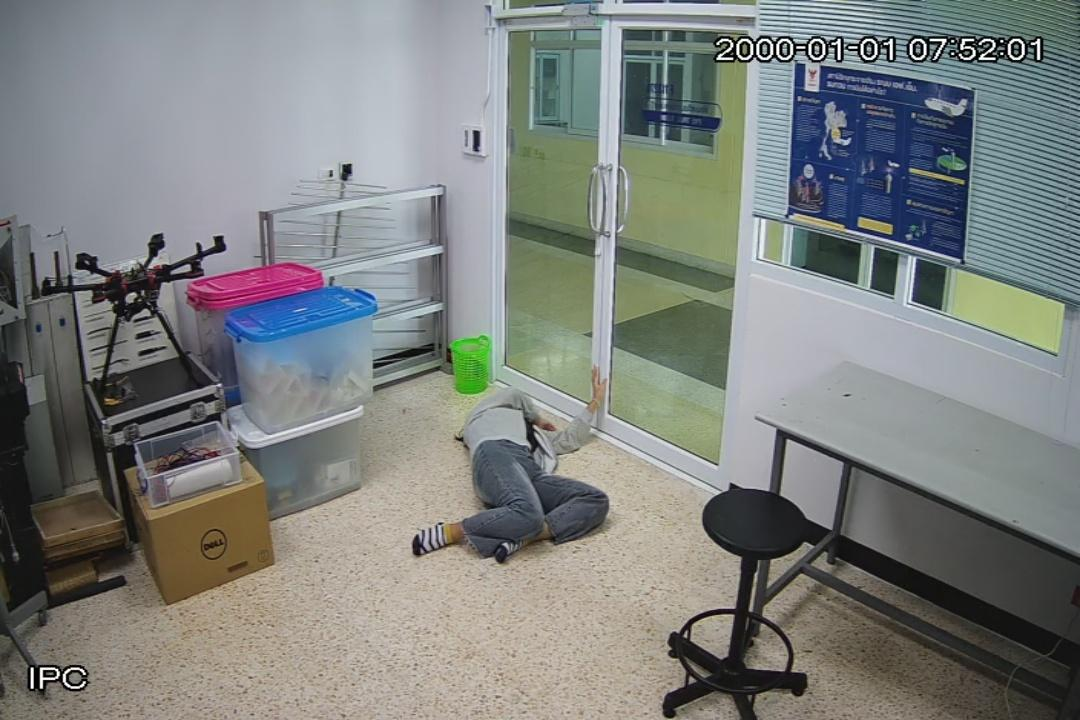fall: (409, 365, 610, 566)
